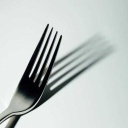fork: (1, 20, 64, 127)
